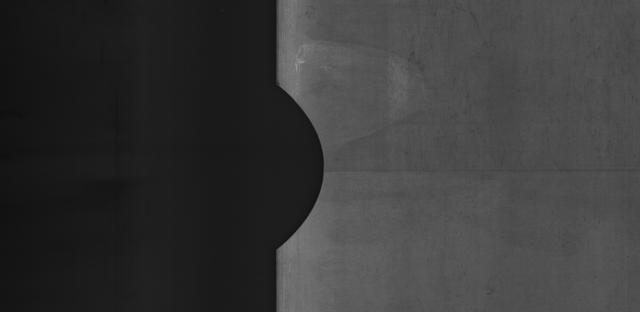crescent_gap: (247, 75, 341, 258)
welding_line: (298, 159, 640, 184)
